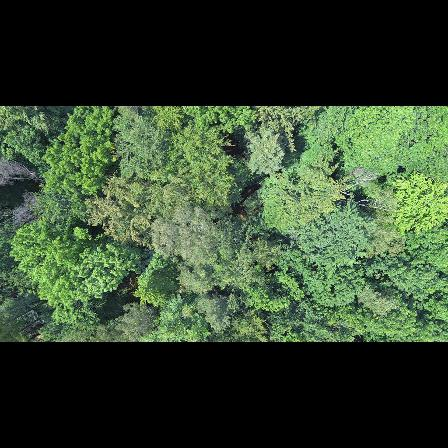Dead: (0, 191, 54, 225), (0, 158, 54, 186)
